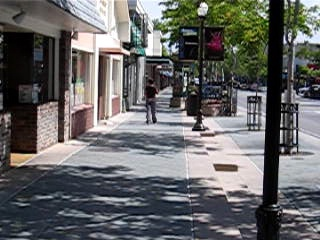person: (144, 80, 159, 127), (143, 80, 158, 127), (145, 80, 160, 127), (144, 79, 159, 126), (144, 81, 159, 128)
target_negative: (20, 109, 303, 172), (147, 137, 309, 223), (52, 12, 230, 52), (48, 144, 125, 160), (291, 187, 296, 200), (282, 234, 301, 237)
